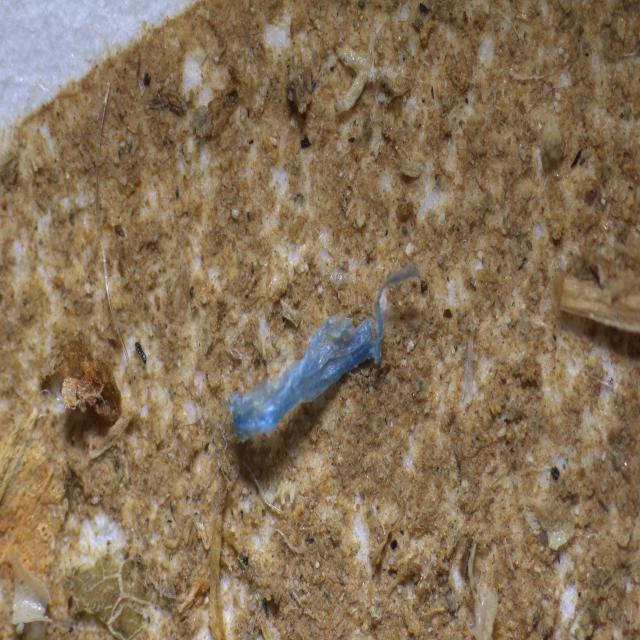microplastic: (212, 253, 452, 455)
